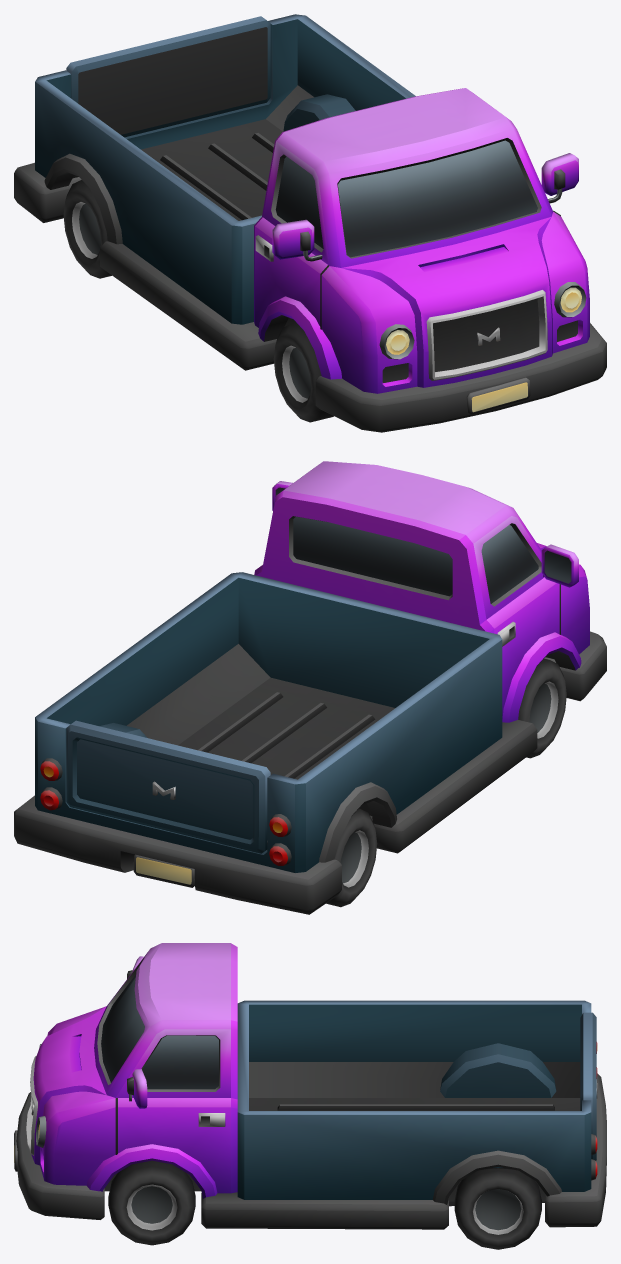
The model's file is Car_9C.fbx.
3 views of the same model, one above another, from view 1: azimuth 30°, elevation 25°; view 2: azimuth 150°, elevation 25°; view 3: azimuth 270°, elevation 25° (orthographic). The views are drawn at different scales.
Visible parts, largest first — view 1: Car_9C, Car_9C_Tailgate, Wheel_9C_F.R, Wheel_9C_R.R; view 2: Car_9C, Car_9C_Tailgate, Wheel_9C_F.R, Wheel_9C_R.R; view 3: Car_9C, Wheel_9C_F.L, Wheel_9C_R.L, Car_9C_Tailgate.
Part boxes in pixels (box(x1,y1,x2,y2)): Car_9C: box(14, 14, 606, 432); Car_9C_Tailgate: box(66, 16, 270, 137); Wheel_9C_F.R: box(273, 322, 333, 422); Wheel_9C_R.R: box(63, 180, 111, 278); Car_9C: box(14, 461, 606, 914); Car_9C_Tailgate: box(66, 720, 270, 853); Wheel_9C_F.R: box(518, 658, 566, 758); Wheel_9C_R.R: box(326, 808, 377, 907); Car_9C: box(14, 943, 606, 1229); Wheel_9C_F.L: box(108, 1160, 195, 1245); Wheel_9C_R.L: box(454, 1168, 541, 1249); Car_9C_Tailgate: box(580, 1012, 597, 1160).
Size of the model in its own units: 279 by 218 by 544.
